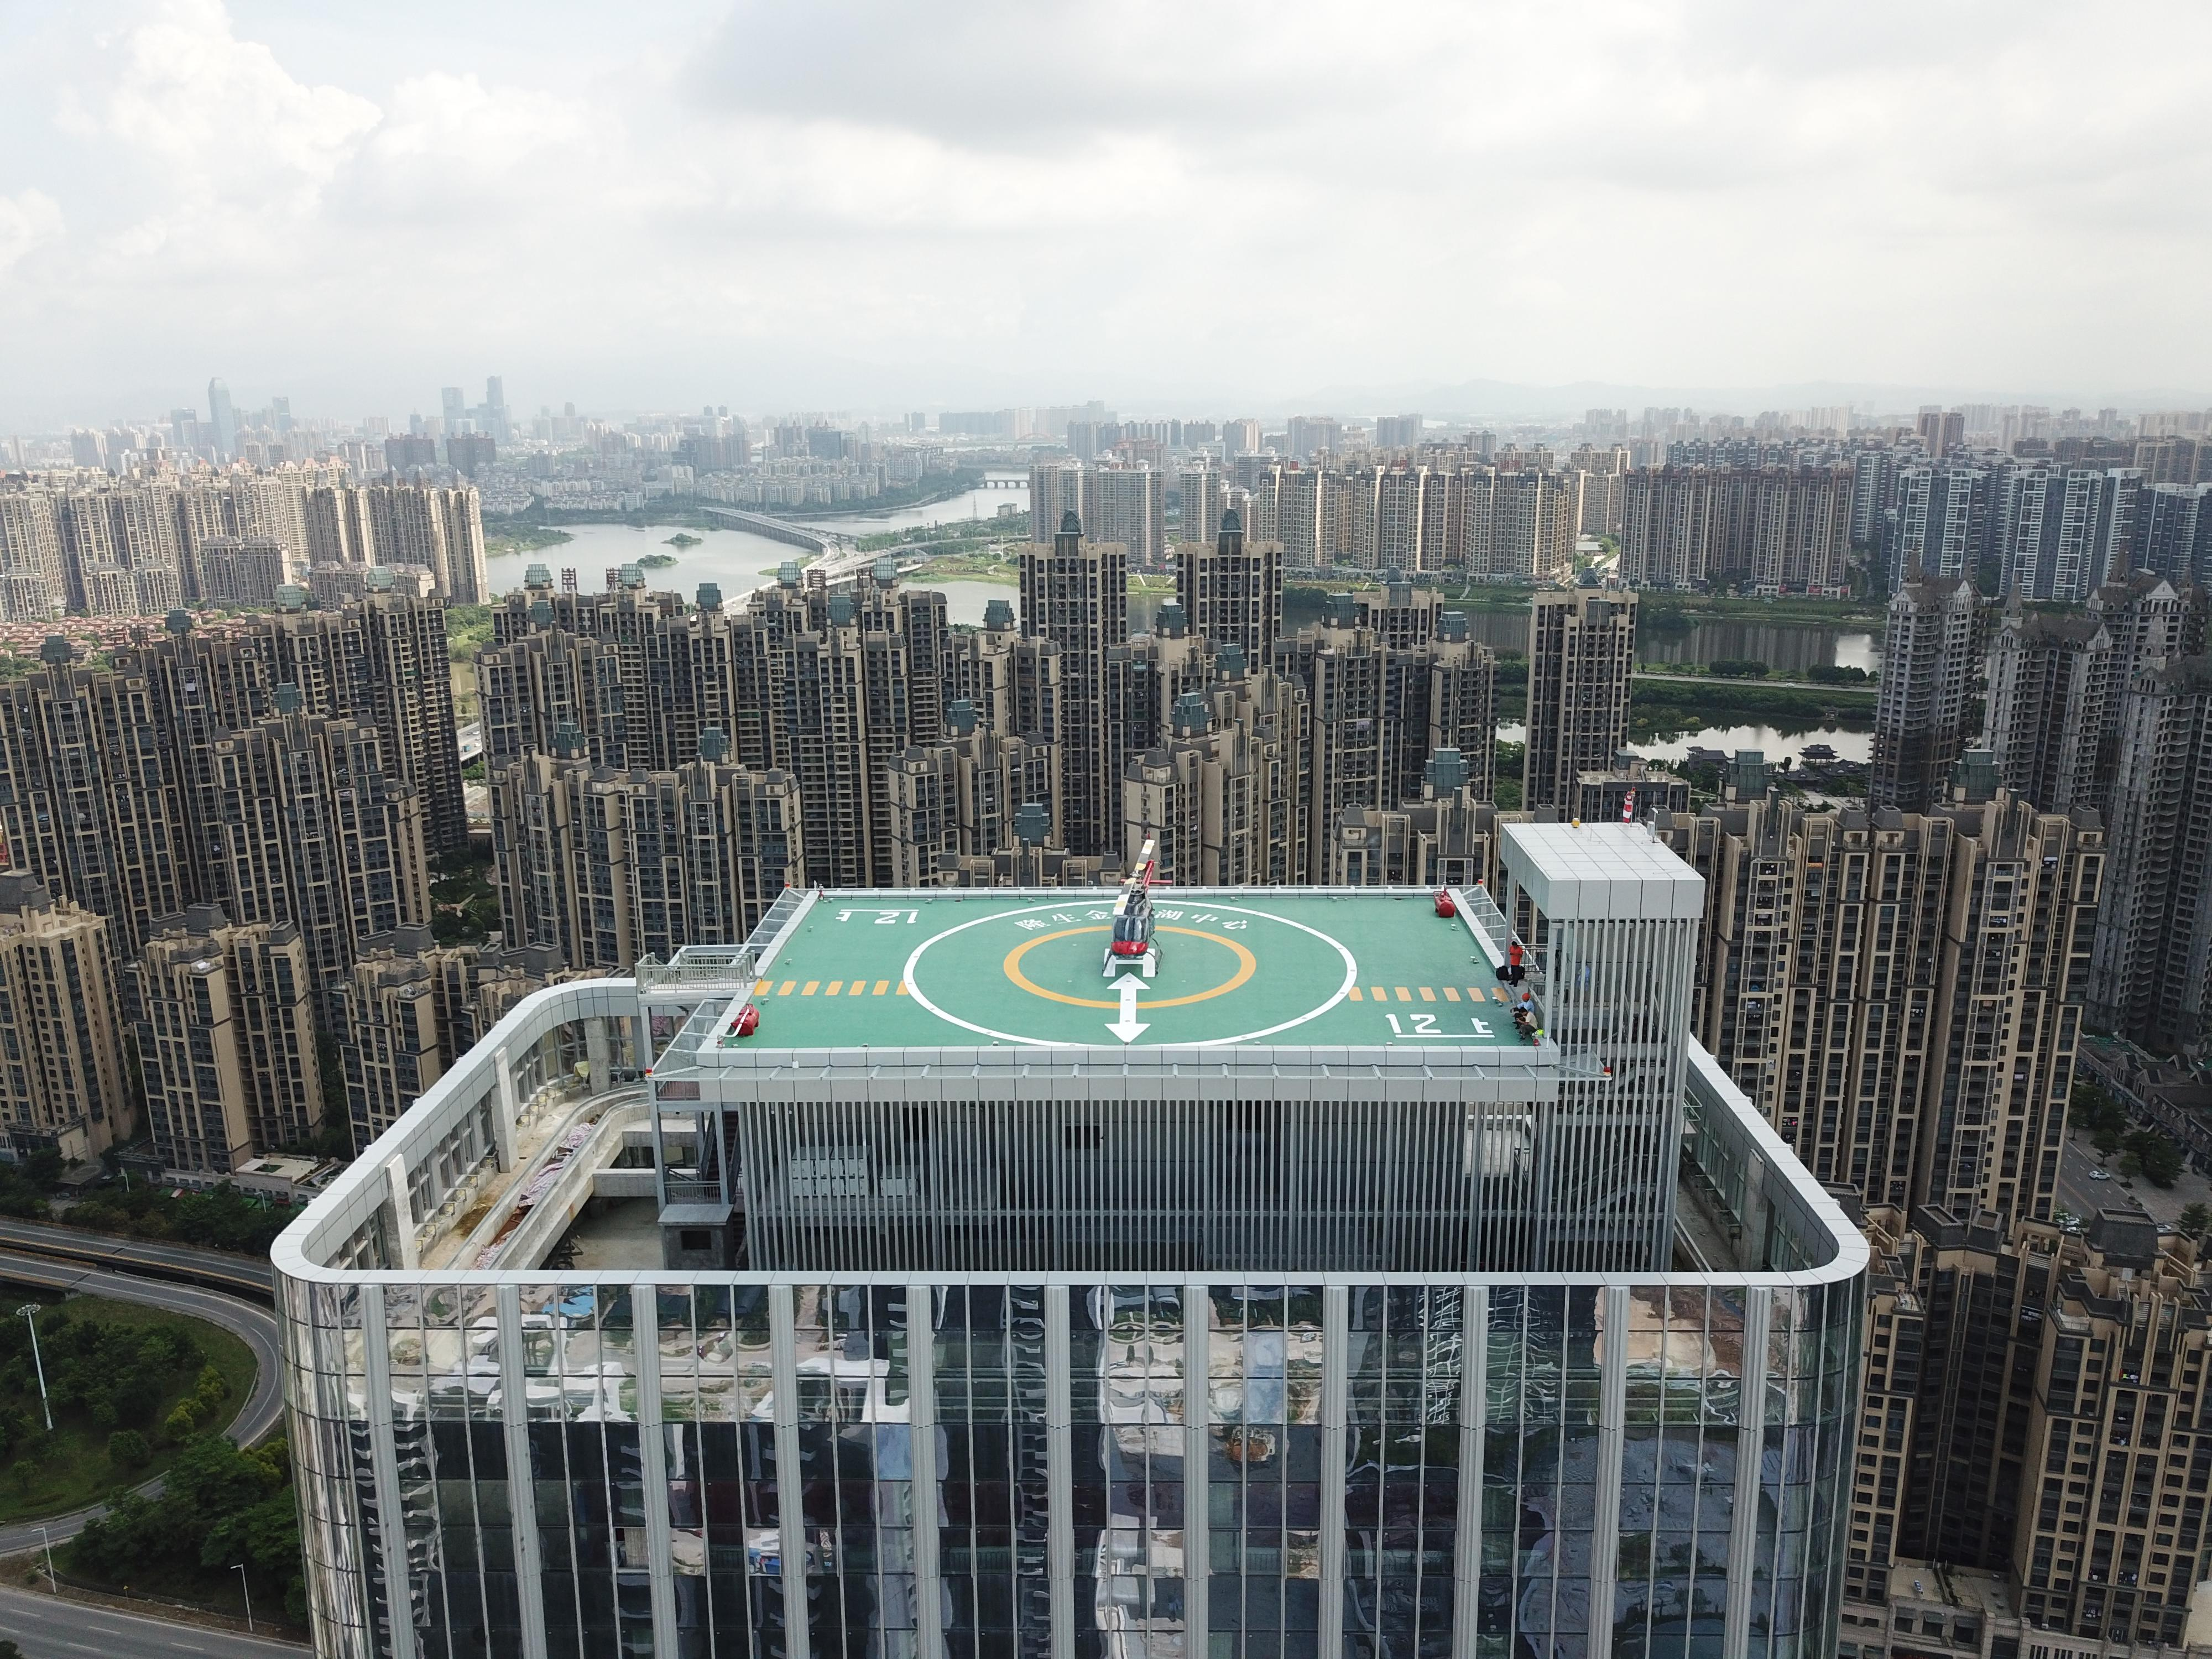Apron: (1001, 922, 1256, 1009)
